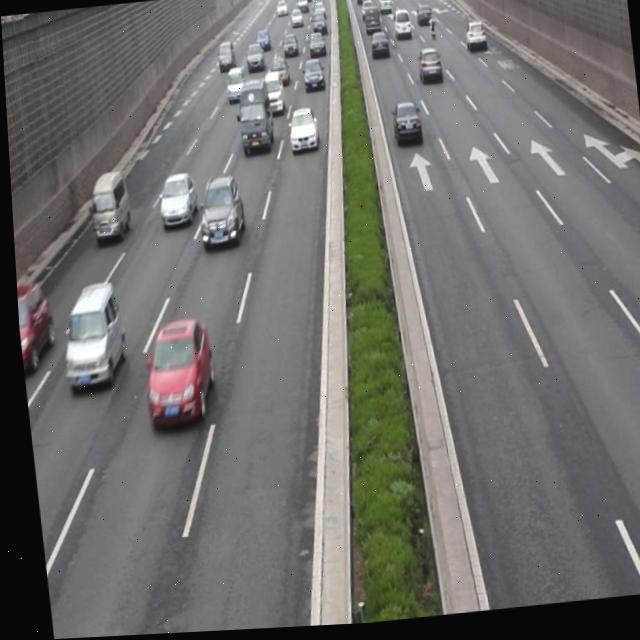car: (134, 317, 212, 429), (193, 176, 243, 249), (13, 279, 51, 374), (153, 171, 196, 230), (390, 103, 422, 151), (285, 108, 317, 156), (415, 49, 442, 87), (300, 60, 324, 96), (267, 55, 289, 88)
truck: (53, 281, 124, 390), (85, 169, 130, 244), (233, 79, 272, 156), (258, 72, 285, 119), (222, 66, 245, 107)
